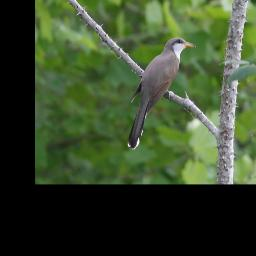Cuckoo: (125, 36, 196, 151)
